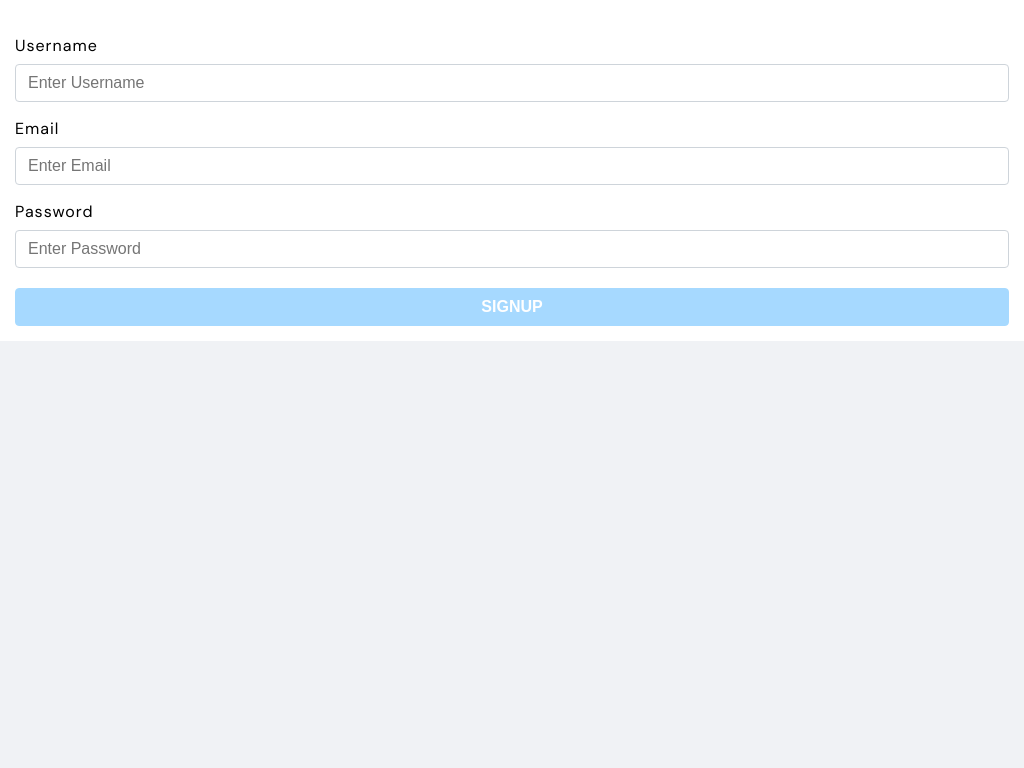
Test: Register › Button › Error › should display error alert and border
Step 1. Type "manny" into the field labelled "Username" → [512, 83], box 15,64 -> 1009,102
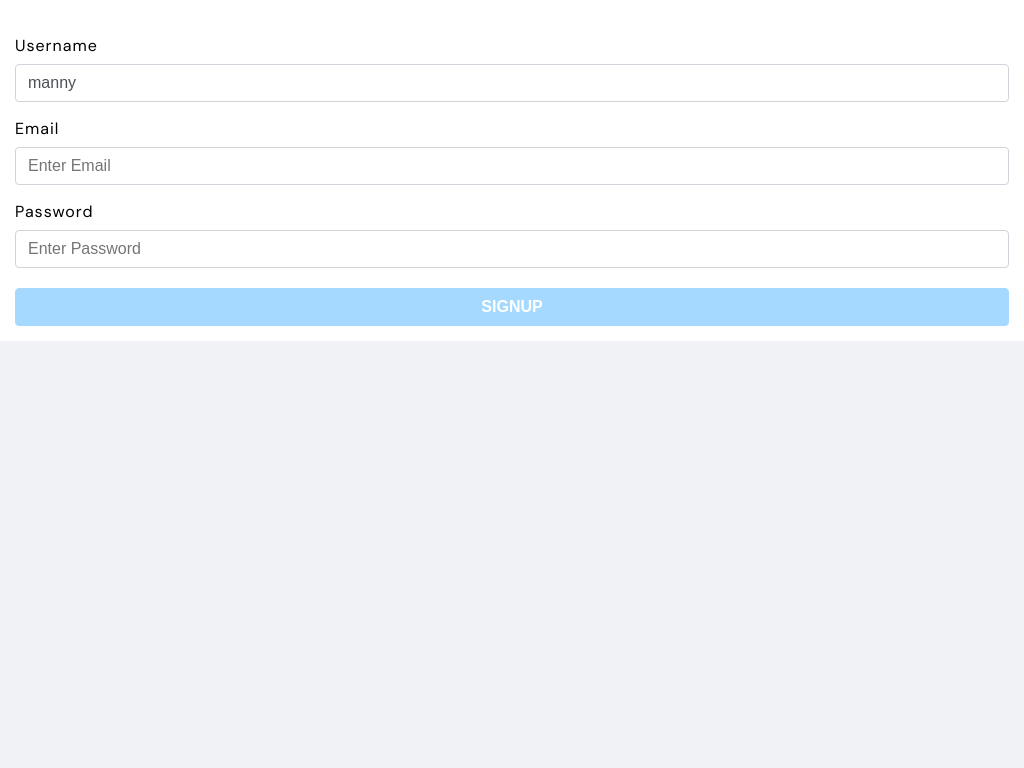
Step 2. Type "manny@test.com" into the field labelled "Email" → [512, 166], box 15,147 -> 1009,185
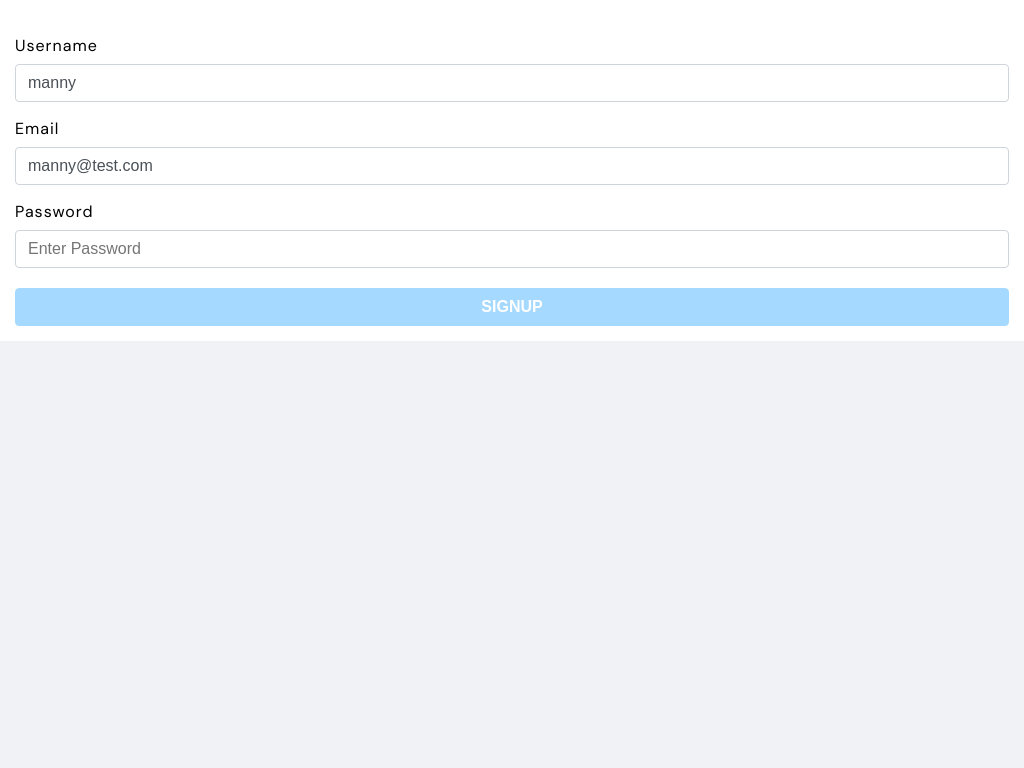
Step 3. Type "qwerty" into the password field labelled "Password" → [512, 249], box 15,230 -> 1009,268
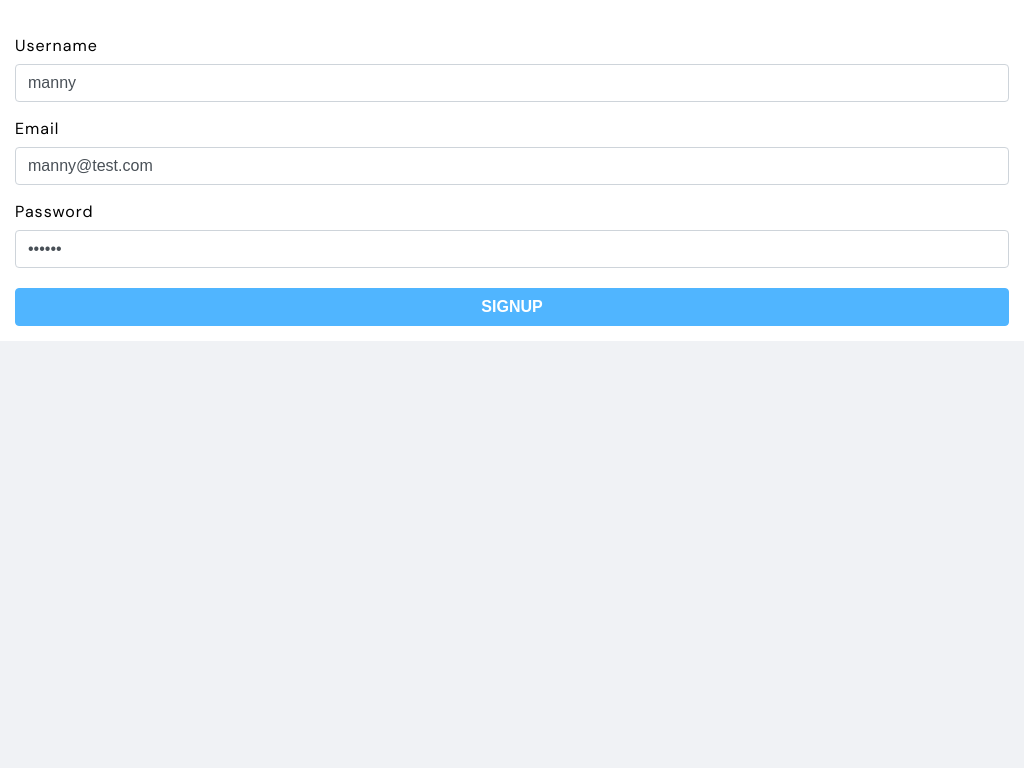
Step 4. Click the button → [512, 307], box 15,288 -> 1009,326
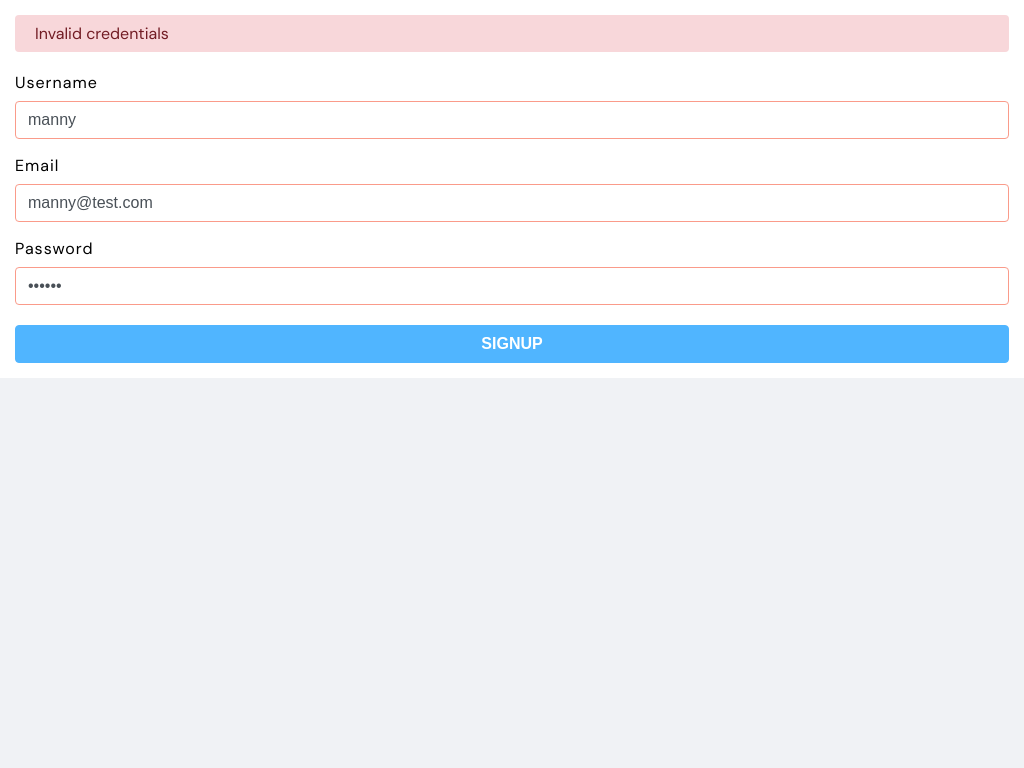
Now the message "Invalid credentials" is shown, box 15,15 -> 1009,52
Now the message reads "Invalid credentials", box 35,23 -> 169,44
